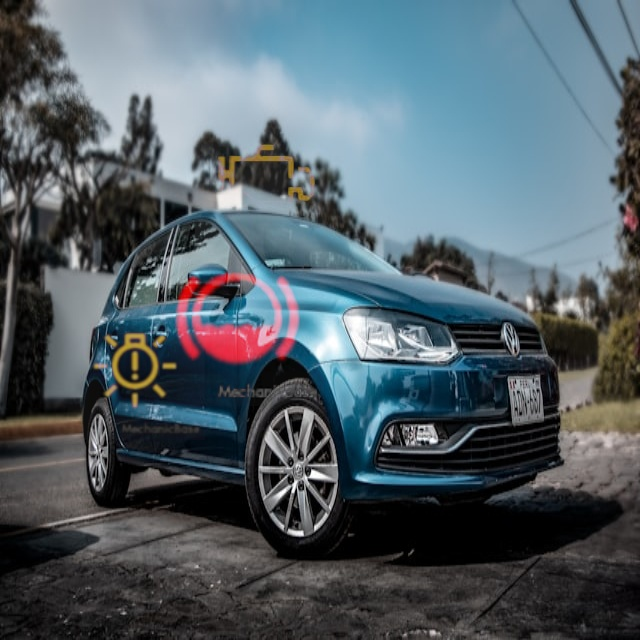symbol: (150, 232, 324, 406), (195, 105, 336, 246), (68, 303, 205, 440)
